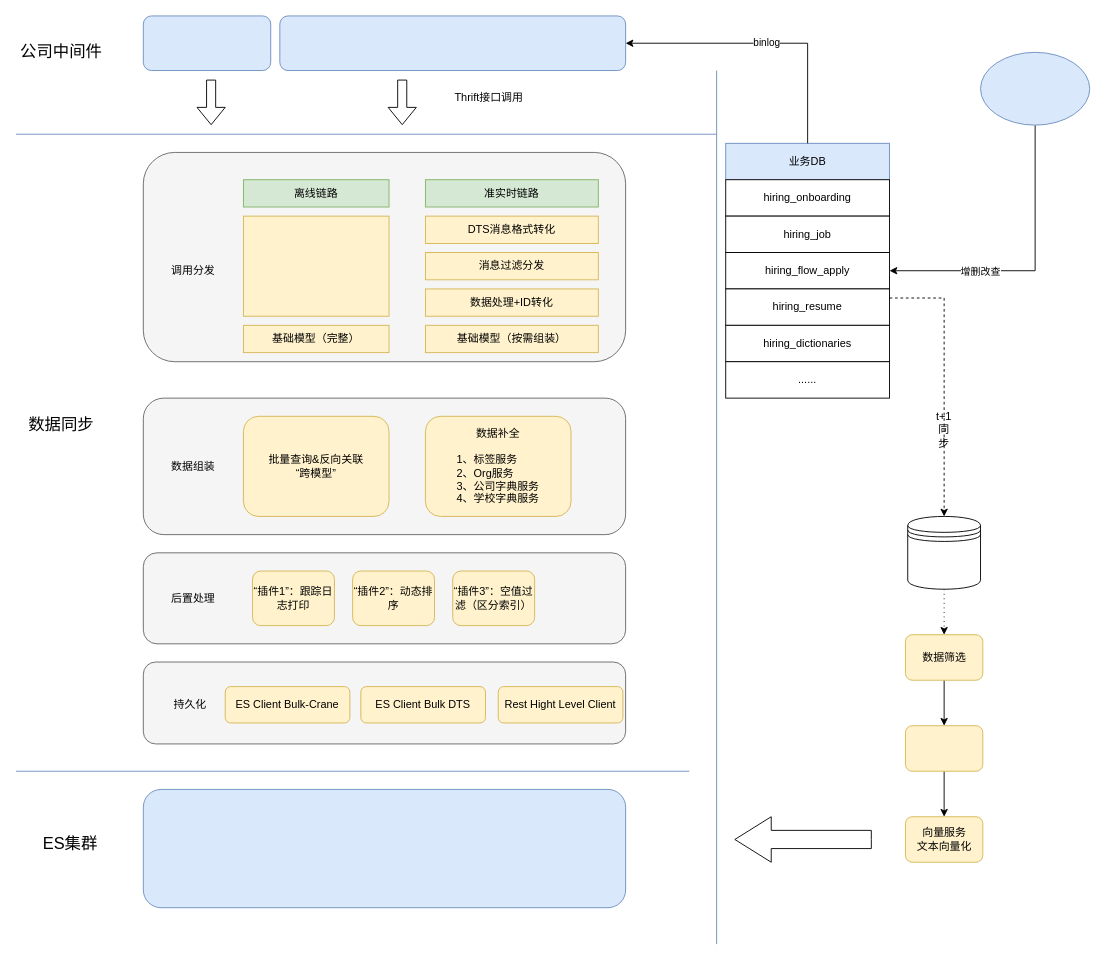
Some shapes in this 1106 by 961 pixel diagram are drawn without their labels. The shapes that lost their labels are listed below. From the top down, each one's centre as x and y in pixels, then its label:
At (x=206, y=43): "Crane任务调度".
At (x=452, y=43): "DTS服务".
At (x=1035, y=88): "业务系统".
At (x=316, y=265): "DB查询 （单模型）".
At (x=944, y=552): "简历文本数据hive".
At (x=944, y=748): "文本预处理".
At (x=384, y=848): "ES集群（单机房，内核支持XCR-跨机房复制） version:7.10 Master Node: 3 Data Node: 22".
